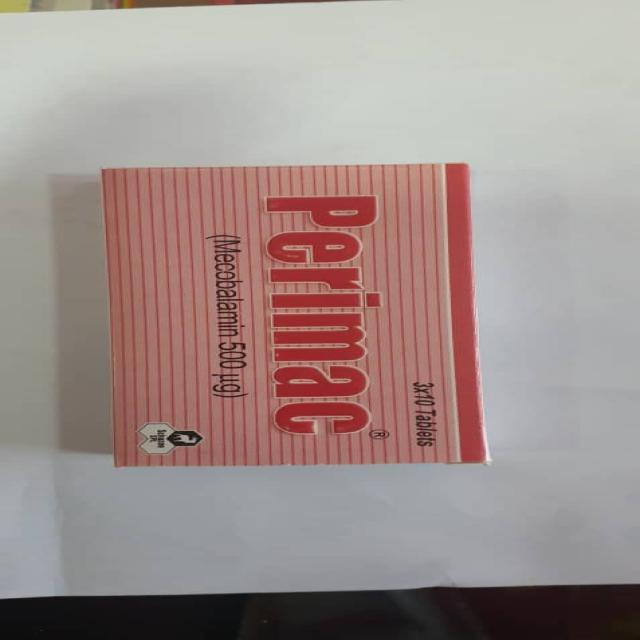drug-name: (258, 185, 386, 443)
